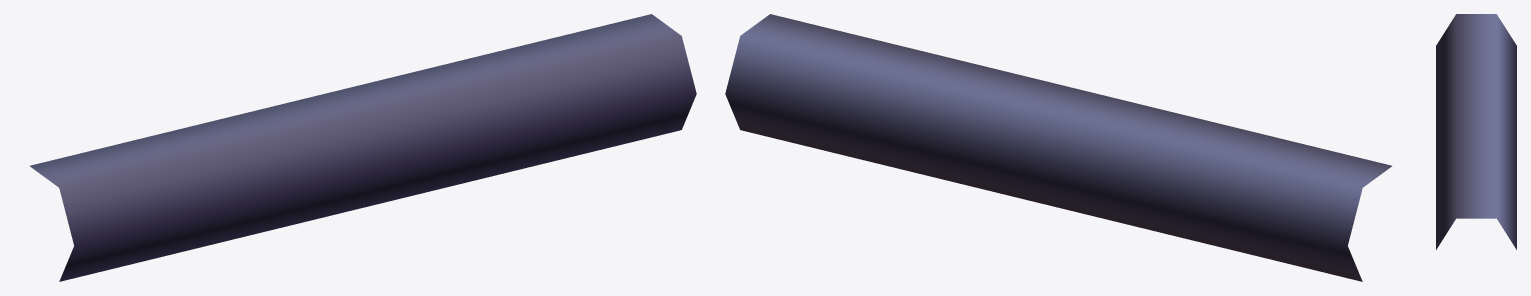
The model's file is FootholdCenter.gltf.
3 views of the same model, side by side, from view 1: azimuth 30°, elevation 25°; view 2: azimuth 150°, elevation 25°; view 3: azimuth 270°, elevation 25° (orthographic). The views are drawn at different scales.
Visible parts, largest first — view 1: FootholdCenterMesh; view 2: FootholdCenterMesh; view 3: FootholdCenterMesh.
Boxes of the visible parts, x1,y1,x2,y2 form: FootholdCenterMesh: (30, 14, 696, 281); FootholdCenterMesh: (725, 14, 1391, 281); FootholdCenterMesh: (1436, 14, 1516, 249).
Size of the model in its own units: 1 by 0.1445 by 0.1668.
